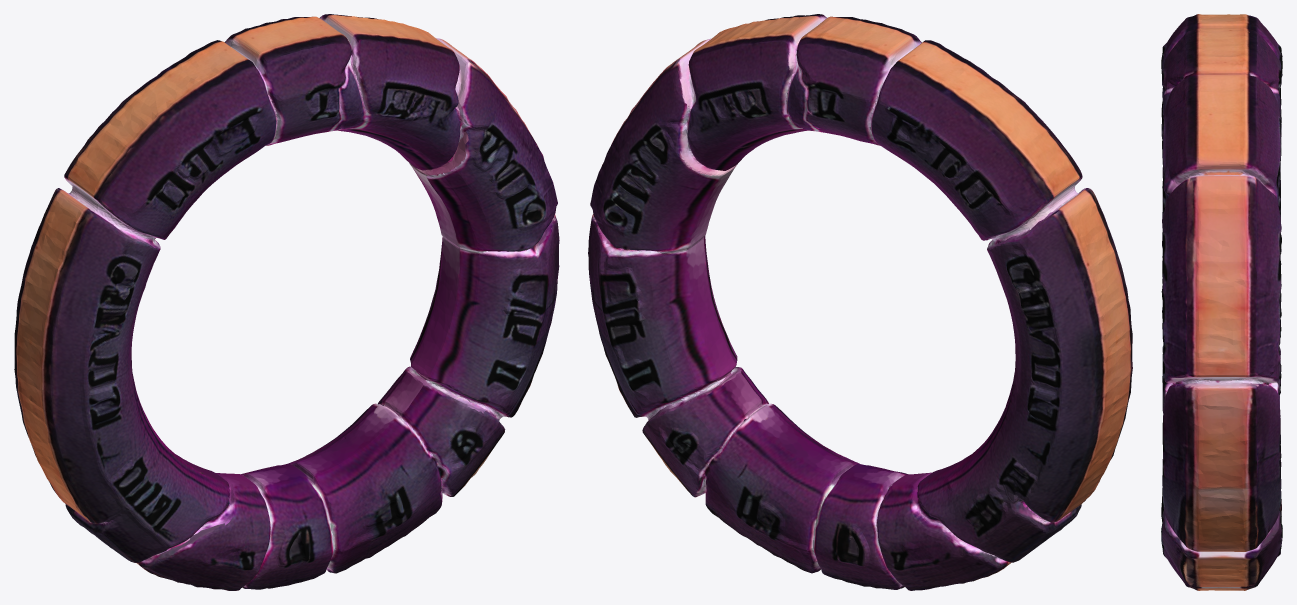
The model's file is shore-ring-generated-2026-04-19T05-14-35-213Z.glb.
3 renders of one model, left to right at view 1: azimuth 30°, elevation 25°; view 2: azimuth 150°, elevation 25°; view 3: azimuth 270°, elevation 25°, orthographic. The views are drawn at different scales.
Parts seen in each view (by area): view 1: temp_mesh.ply; view 2: temp_mesh.ply; view 3: temp_mesh.ply.
Part boxes in pixels (left/top/right/bottom): temp_mesh.ply: left=14, top=14, right=559, bottom=590; temp_mesh.ply: left=588, top=14, right=1132, bottom=590; temp_mesh.ply: left=1161, top=14, right=1282, bottom=590.
Bounding box in the file's own units: 1.97 × 1.97 × 0.4168.
Materials: 1 (1 with a texture image).
